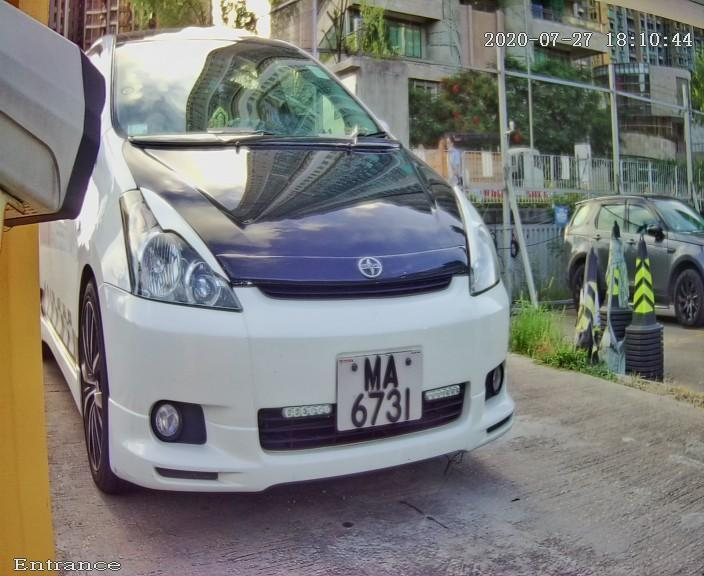privatecar: (48, 29, 582, 515)
